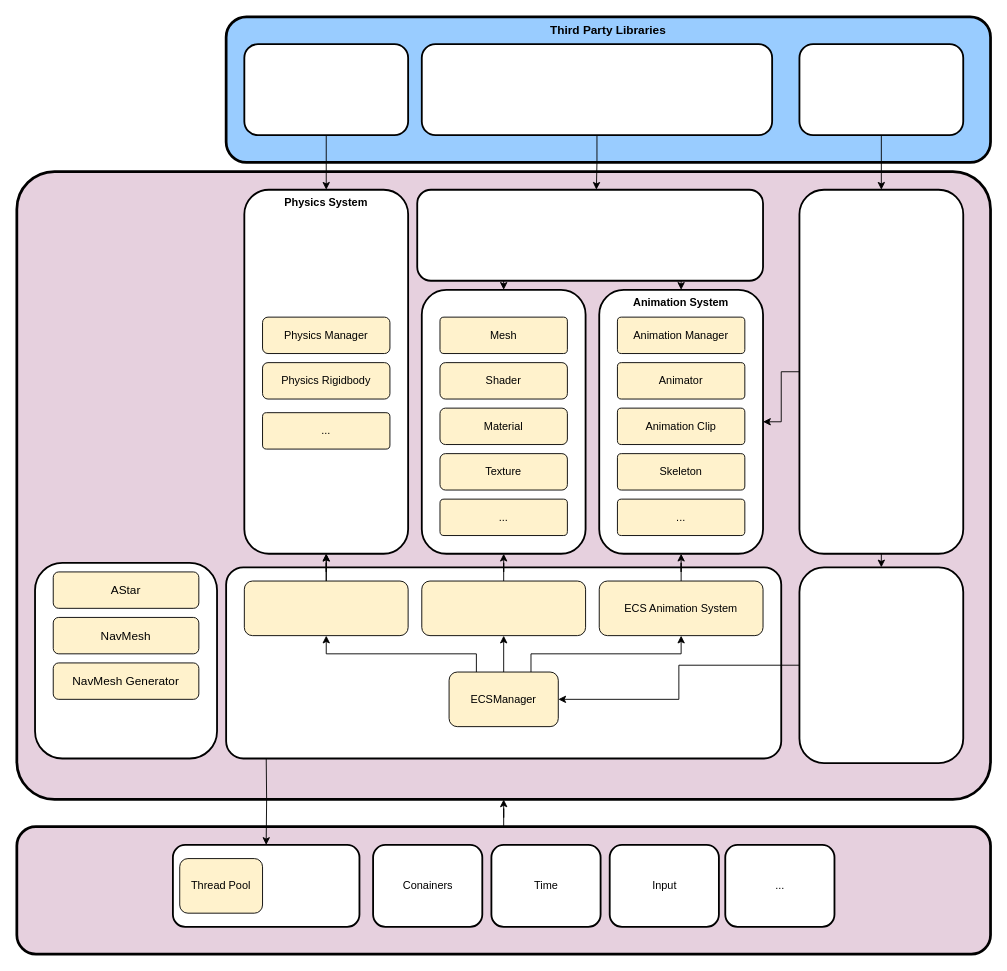
This 1007x971 diagram has some shape labels left out. Here are the shapes that lost their labels. From the top down, the box of each, then its label:
(243, 43, 409, 136): ReactPhysics3D
(420, 43, 773, 136): assimp
(798, 43, 964, 136): YAML
(416, 188, 763, 281): Resource Manager
(798, 188, 964, 554): Serialization
(420, 288, 586, 554): Renderer
(243, 580, 408, 636): ECS Physics System
(421, 580, 586, 636): ECS Renderer System
(34, 561, 217, 759): Pathfinding
(225, 566, 782, 759): ECS Systems and Components
(798, 566, 964, 763): Scene Manager
(172, 844, 360, 927): Job Manager
(15, 825, 991, 955): Core
